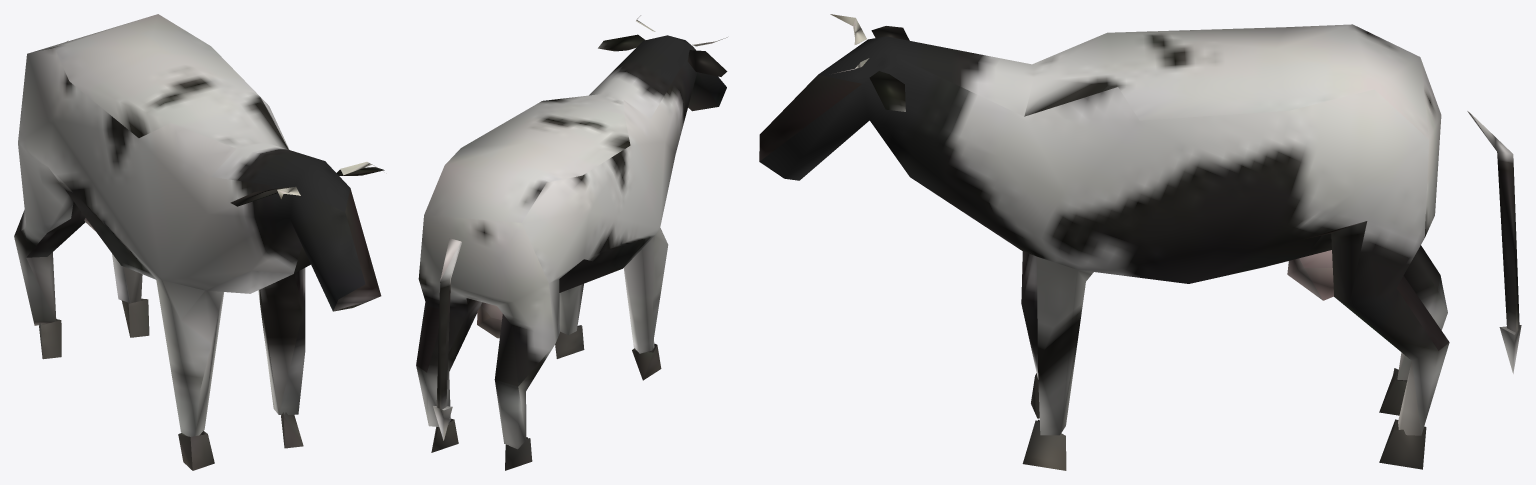
The model's file is cow-lod1.glb.
The picture shows the model from 3 angles, left to right: view 1: azimuth 30°, elevation 25°; view 2: azimuth 150°, elevation 25°; view 3: azimuth 270°, elevation 25°; orthographic projection. The views are drawn at different scales.
Visible parts, largest first — view 1: cow-body.001; view 2: cow-body.001; view 3: cow-body.001.
Boxes of the visible parts, x1,y1,x2,y2 form: cow-body.001: (14,14,384,470); cow-body.001: (416,15,727,470); cow-body.001: (759,14,1521,470).
Bounding box in the file's own units: 0.7345 × 1.42 × 2.44.
Materials: 1 (1 with a texture image).
